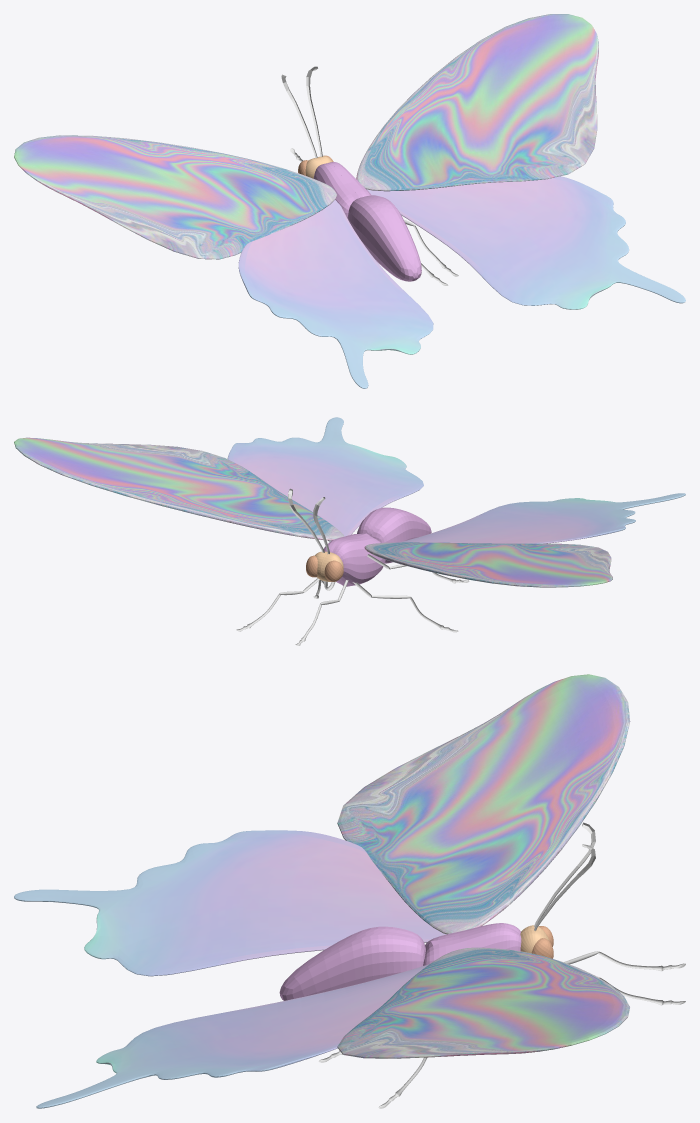
Rendered from papillon_1.glb.
3 renders of one model, top to bottom at view 1: azimuth 30°, elevation 25°; view 2: azimuth 150°, elevation 25°; view 3: azimuth 270°, elevation 25°, orthographic. The views are drawn at different scales.
Visible parts, largest first — view 1: AILES1, AILES 2, CORPS, CORPS.001, ANTENES; view 2: AILES1, AILES 2, CORPS, CORPS.001, Cube.001, YEUX, ANTENES, Cube.002, TETE; view 3: AILES1, AILES 2, CORPS, CORPS.001, ANTENES, Cube.001.
Part boxes in pixels (box(x1,y1,x2,y2)): AILES1: box(14, 14, 598, 259); AILES 2: box(238, 176, 685, 388); CORPS: box(347, 195, 421, 281); CORPS.001: box(313, 162, 371, 218); ANTENES: box(281, 66, 322, 158); AILES1: box(14, 437, 612, 587); AILES 2: box(227, 417, 685, 551); CORPS: box(357, 507, 431, 563); CORPS.001: box(324, 533, 385, 586); Cube.001: box(236, 578, 348, 645); YEUX: box(306, 555, 343, 581); ANTENES: box(288, 488, 329, 554); Cube.002: box(313, 580, 458, 632); TETE: box(315, 551, 343, 581); AILES1: box(337, 674, 630, 1058); AILES 2: box(14, 830, 446, 1108); CORPS: box(279, 926, 425, 1000); CORPS.001: box(423, 923, 521, 965); ANTENES: box(534, 822, 595, 930); Cube.001: box(564, 951, 685, 1005).
Size of the model in its own units: 11.5 by 3.35 by 8.86.
5 materials, 2 textured.
